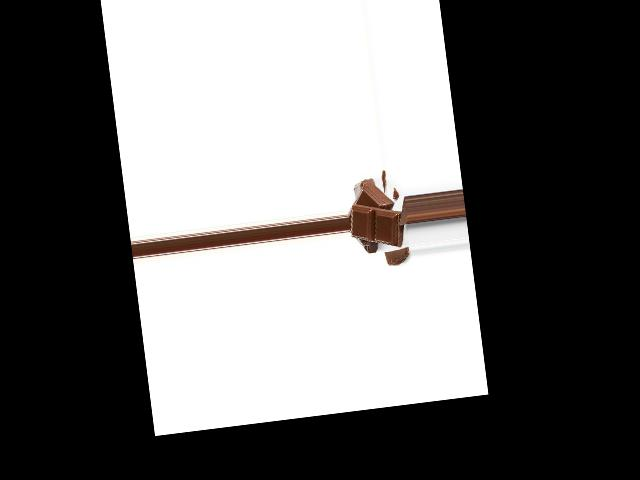chocolate: (349, 198, 404, 250)
